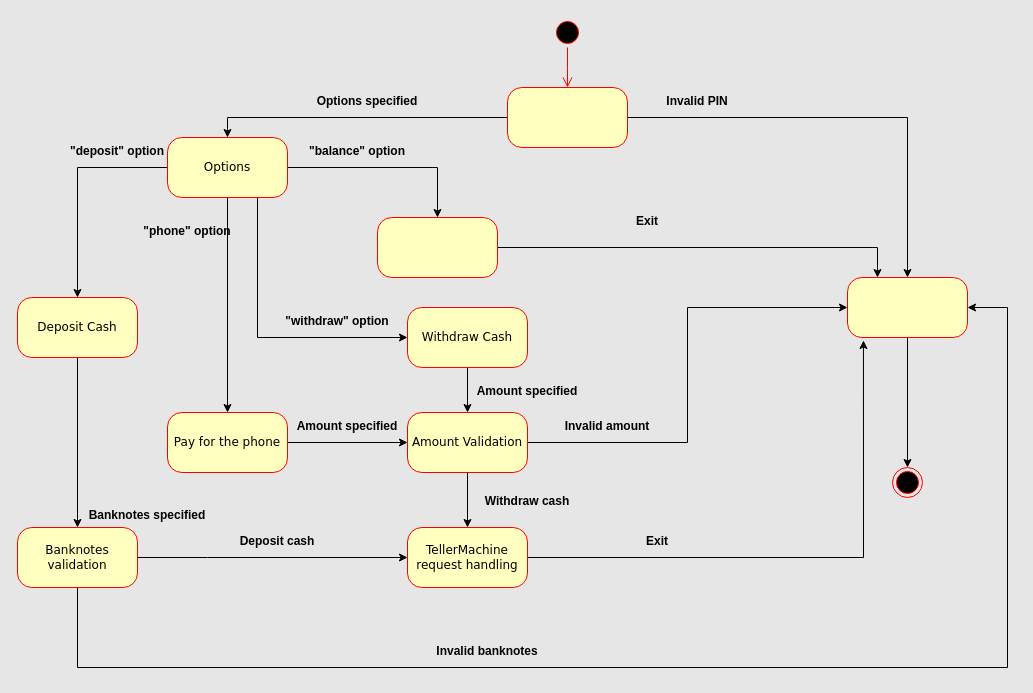
The diagram is 1033 pixels wide and 693 high, and some of its shapes have lost their labels. Each missing label, with the box of its shape:
End: (846, 276, 968, 338)
PIN Validation: (506, 86, 628, 148)
Show card balance: (376, 216, 498, 278)
